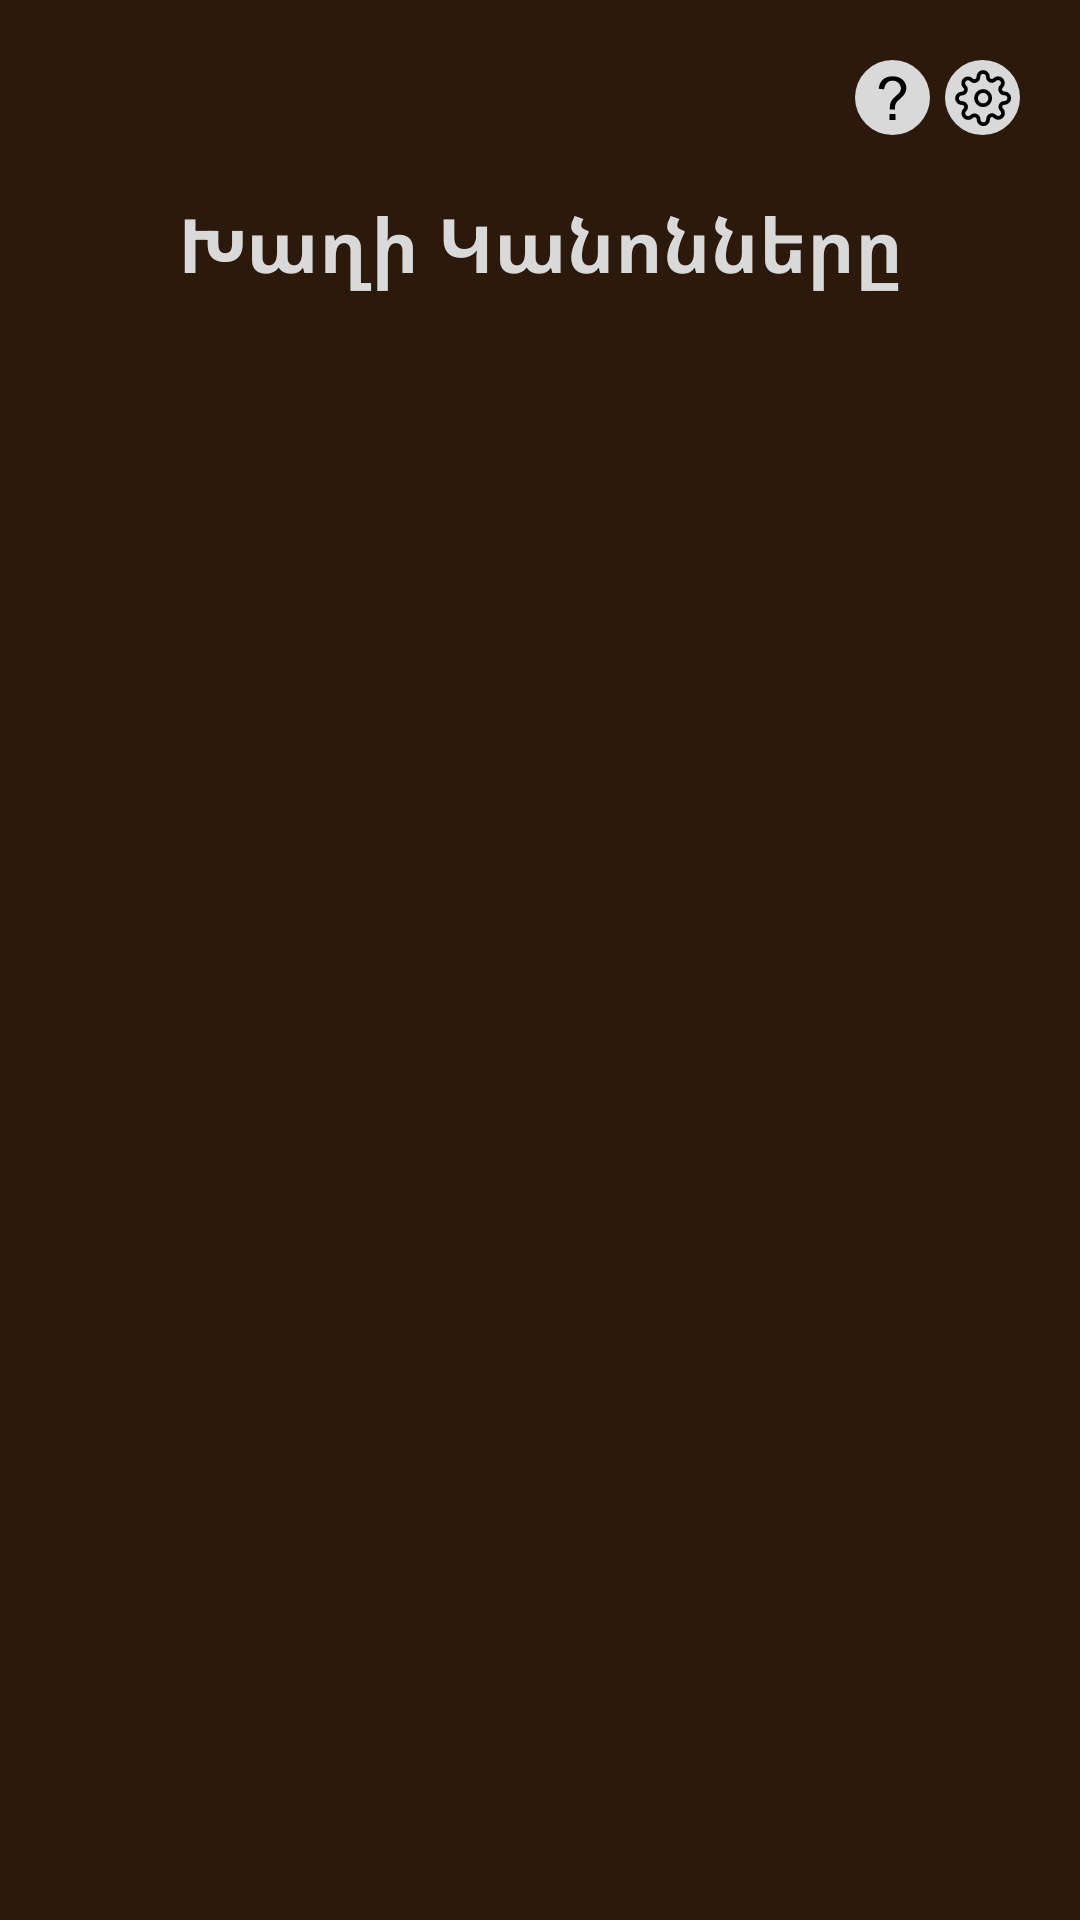

Named icons in this screenshot (1080x1920) and their centers, [x,y]:
settings: [982,97]
